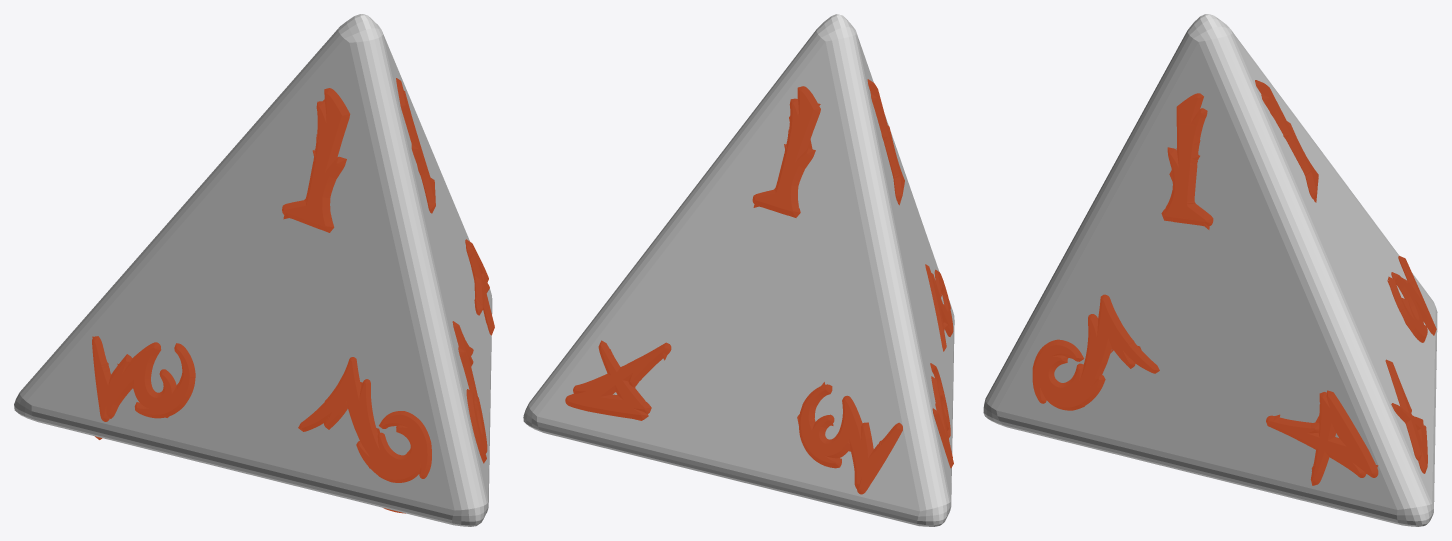
3 renders of one model, left to right at view 1: azimuth 30°, elevation 25°; view 2: azimuth 150°, elevation 25°; view 3: azimuth 270°, elevation 25°, orthographic. The views are drawn at different scales.
Visible parts, largest first — view 1: Cone; view 2: Cone; view 3: Cone.
Part boxes in pixels (box(x1,y1,x2,y2)): Cone: box(14, 14, 494, 526); Cone: box(523, 14, 954, 526); Cone: box(983, 14, 1437, 526).
Size of the model in its own units: 1.93 by 1.74 by 1.71.
